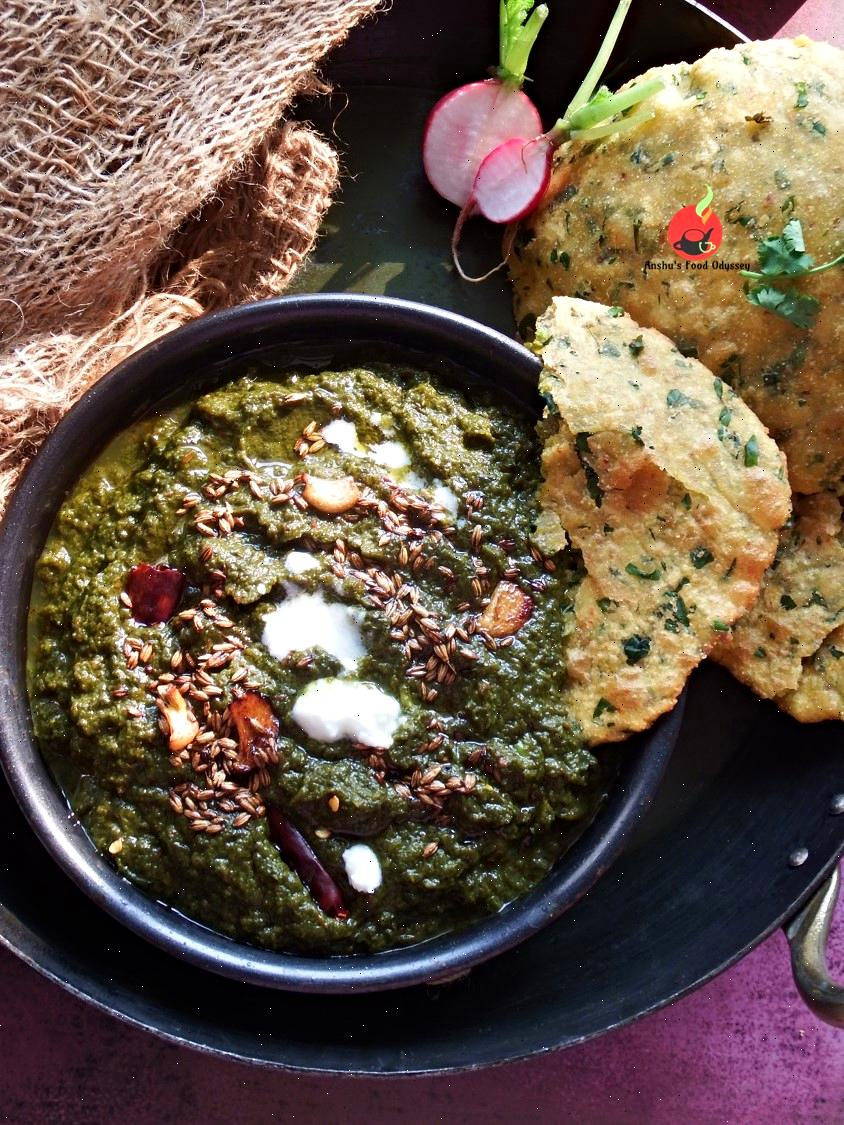saag: (32, 378, 582, 935)
